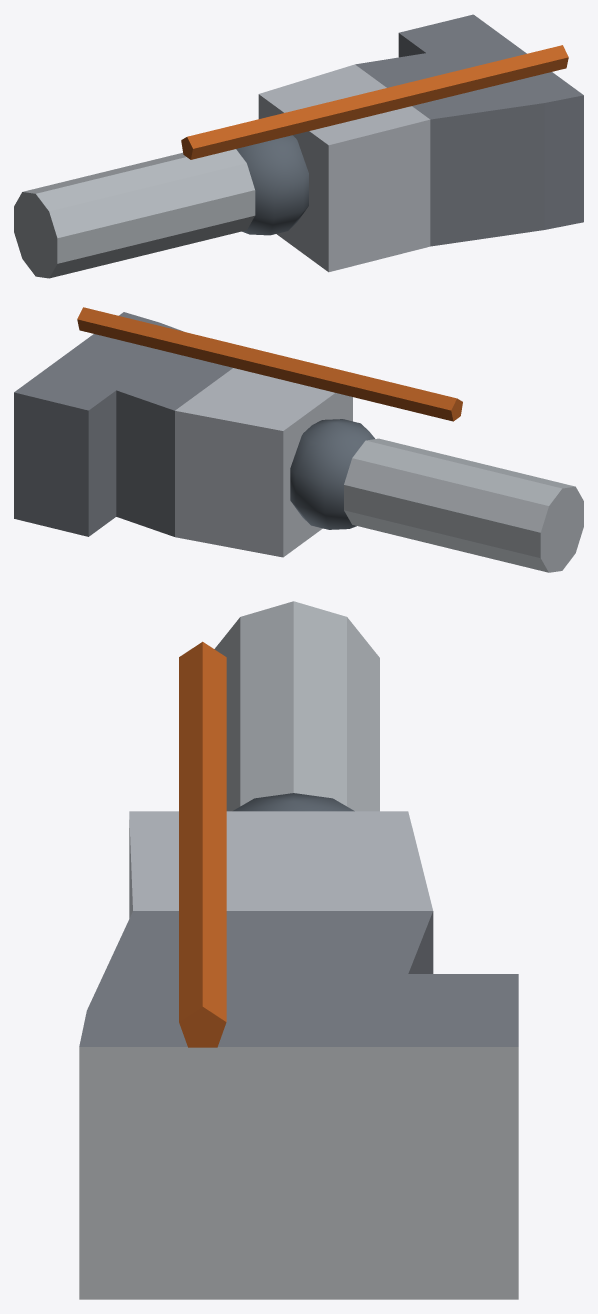
The model's file is prosthesis-leg.glb.
3 renders of one model, top to bottom at view 1: azimuth 30°, elevation 25°; view 2: azimuth 150°, elevation 25°; view 3: azimuth 270°, elevation 25°, orthographic. The views are drawn at different scales.
Parts seen in each view (by area): view 1: prosthesis-leg; view 2: prosthesis-leg; view 3: prosthesis-leg.
Boxes of the visible parts, x1=… form: prosthesis-leg: x1=14, y1=14, x2=583, y2=278; prosthesis-leg: x1=14, y1=307, x2=583, y2=572; prosthesis-leg: x1=79, y1=601, x2=518, y2=1299.
Bounding box in the file's own units: 0.51 × 0.147 × 0.1934.
